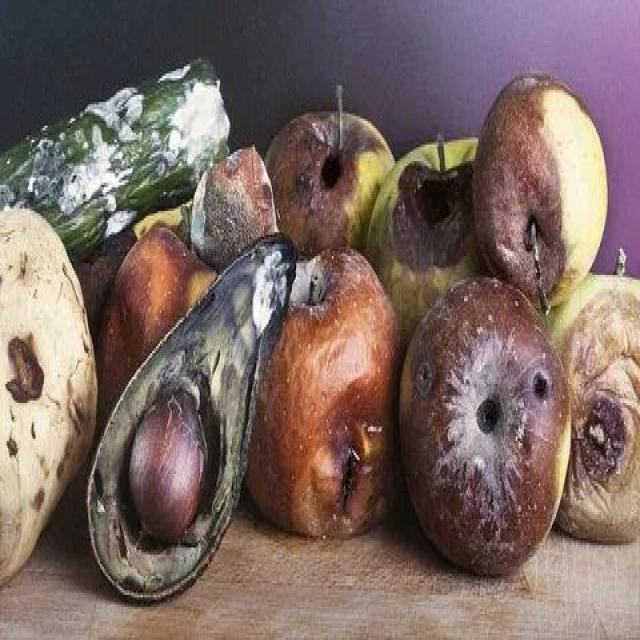Rotten: (412, 278, 570, 560), (468, 74, 606, 306)
